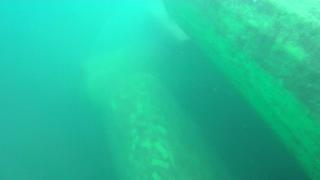pipe: (162, 1, 320, 180), (78, 55, 230, 180)
